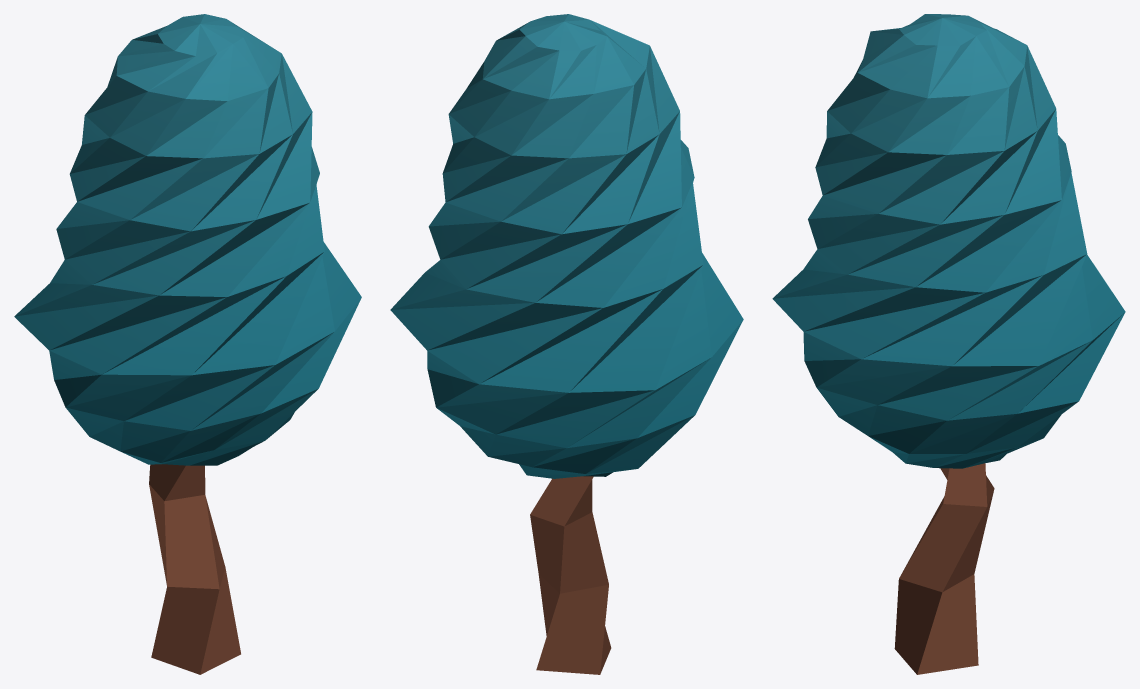
File: Tree_14_gradient_blue_vc.fbx
3 renders of one model, left to right at view 1: azimuth 30°, elevation 25°; view 2: azimuth 150°, elevation 25°; view 3: azimuth 270°, elevation 25°, orthographic. The views are drawn at different scales.
Visible parts, largest first — view 1: Tree_14_gradient_blue_vc; view 2: Tree_14_gradient_blue_vc; view 3: Tree_14_gradient_blue_vc.
Boxes of the visible parts, x1,y1,x2,y2 form: Tree_14_gradient_blue_vc: (14, 14, 361, 674); Tree_14_gradient_blue_vc: (390, 14, 743, 674); Tree_14_gradient_blue_vc: (772, 14, 1125, 674).
Size of the model in its own units: 104 by 223 by 111.
